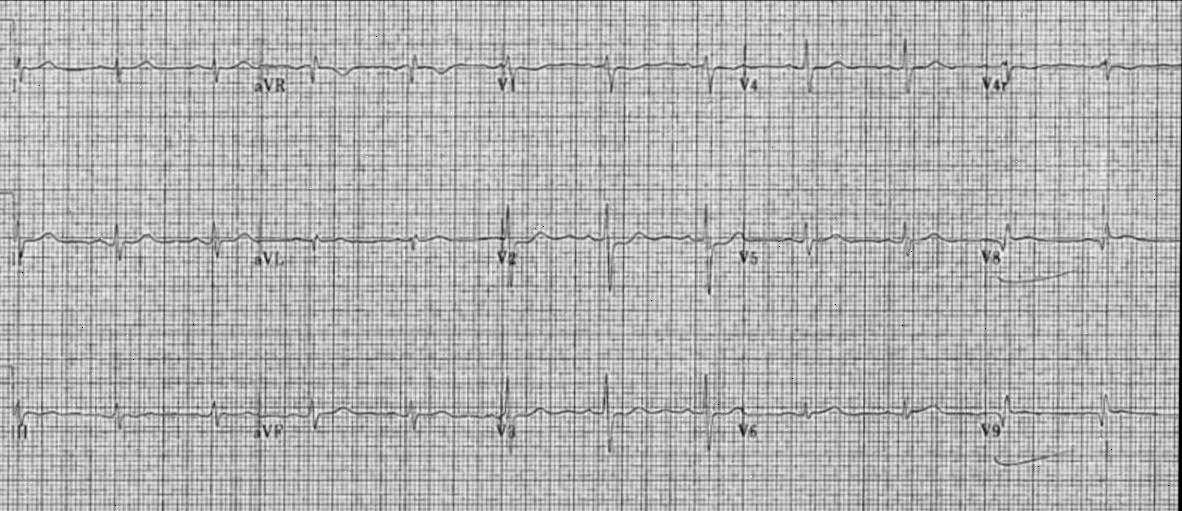Lead_I: (8, 195, 247, 287), (9, 34, 252, 122)
Lead_II: (13, 368, 250, 454)
Lead_V1: (496, 25, 742, 122)
Lead_V2: (492, 192, 737, 290)
Lead_V3: (496, 368, 738, 462)
Lead_V4: (741, 20, 985, 123)
Lead_V5: (735, 192, 978, 298)
Lead_V6: (738, 364, 979, 468)
Lead_aVF: (247, 370, 492, 460)
Lead_aVL: (248, 190, 491, 292)
Lead_aVR: (251, 30, 496, 128)
